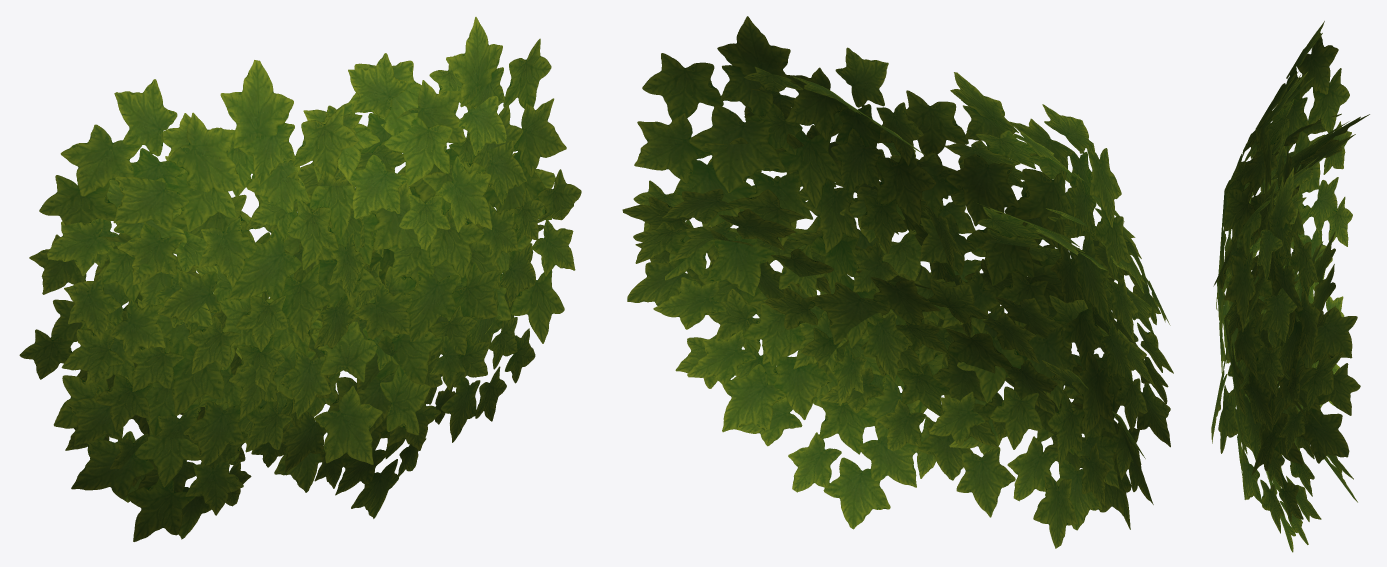
Rendered from MSH_fwOF_Ivy_Bushy_02.fbx.
The picture shows the model from 3 angles, left to right: view 1: azimuth 30°, elevation 25°; view 2: azimuth 150°, elevation 25°; view 3: azimuth 270°, elevation 25°; orthographic projection. The views are drawn at different scales.
Visible parts, largest first — view 1: MSH_fwOF_Ivy_Bushy_02_LOD0; view 2: MSH_fwOF_Ivy_Bushy_02_LOD0; view 3: MSH_fwOF_Ivy_Bushy_02_LOD0.
Boxes of the visible parts, <box> form: MSH_fwOF_Ivy_Bushy_02_LOD0: <box>19,17,581,541</box>; MSH_fwOF_Ivy_Bushy_02_LOD0: <box>622,16,1173,548</box>; MSH_fwOF_Ivy_Bushy_02_LOD0: <box>1211,21,1369,552</box>.
Size of what is drawn, in the model's own units: 1.05 by 0.9077 by 0.3058.
